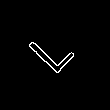L_NW: (18, 17, 75, 75)
